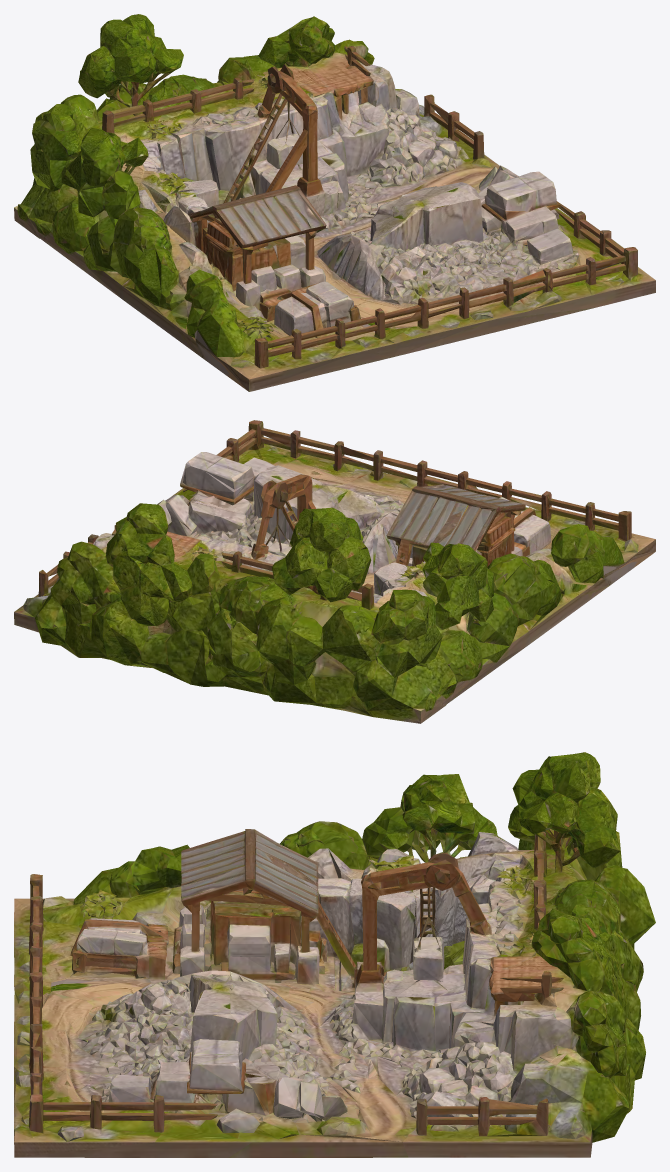
File: quarry.glb
3 views of the same model, one above another, from view 1: azimuth 30°, elevation 25°; view 2: azimuth 150°, elevation 25°; view 3: azimuth 270°, elevation 25° (orthographic). The views are drawn at different scales.
Parts seen in each view (by area): view 1: normalize; view 2: normalize; view 3: normalize.
Part boxes in pixels (x1,y1,x2,y2): normalize: [14, 14, 655, 391]; normalize: [14, 420, 655, 723]; normalize: [14, 752, 655, 1157].
Size of the model in its own units: 0.9122 by 0.3855 by 1.
Materials: 1 (1 with a texture image).
